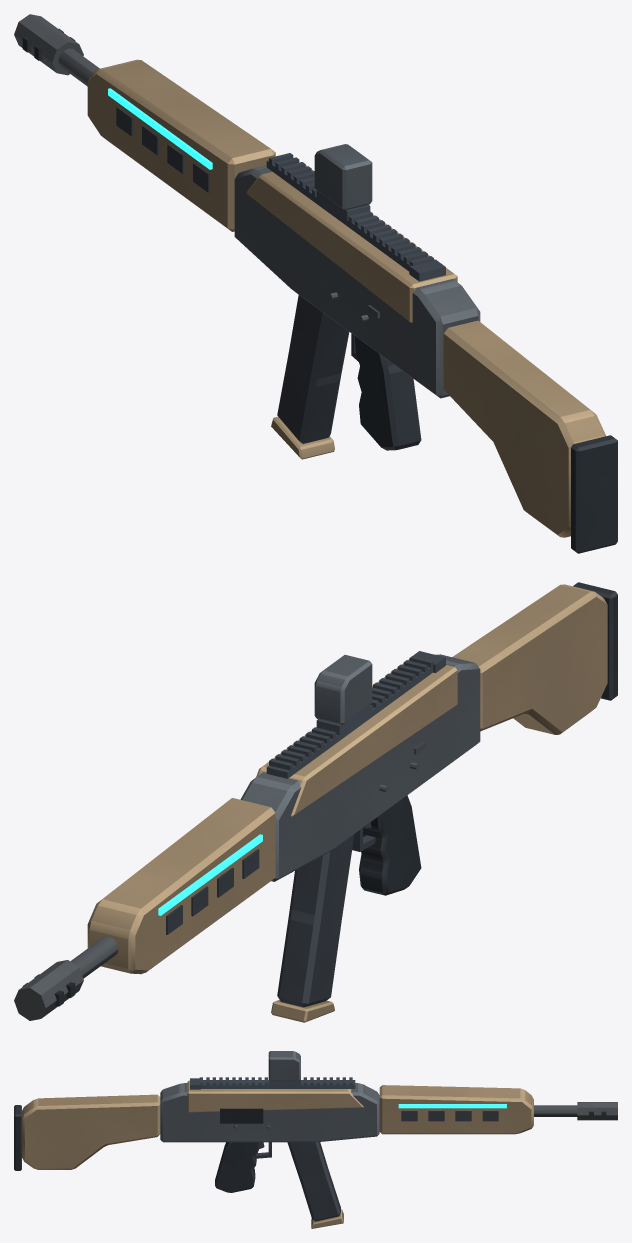
The picture shows the model from 3 angles, top to bottom: view 1: azimuth 30°, elevation 25°; view 2: azimuth 150°, elevation 25°; view 3: azimuth 270°, elevation 25°; orthographic projection. The views are drawn at different scales.
Parts seen in each view (by area): view 1: interceptor-rifle_gun, interceptor-rifle_gunGrip, interceptor-rifle_steel, interceptor-rifle_glow; view 2: interceptor-rifle_gun, interceptor-rifle_gunGrip, interceptor-rifle_steel, interceptor-rifle_glow; view 3: interceptor-rifle_gun, interceptor-rifle_gunGrip, interceptor-rifle_steel, interceptor-rifle_glow.
Part boxes in pixels (<box>): interceptor-rifle_gun: <box>22,28,605,537</box>; interceptor-rifle_gunGrip: <box>277,295,617,553</box>; interceptor-rifle_steel: <box>14,14,379,322</box>; interceptor-rifle_glow: <box>108,88,212,169</box>; interceptor-rifle_gun: <box>22,584,607,1022</box>; interceptor-rifle_gunGrip: <box>277,582,617,1007</box>; interceptor-rifle_steel: <box>14,741,426,1020</box>; interceptor-rifle_glow: <box>158,834,262,915</box>; interceptor-rifle_gun: <box>22,1051,606,1228</box>; interceptor-rifle_gunGrip: <box>14,1105,340,1221</box>; interceptor-rifle_steel: <box>234,1102,617,1129</box>; interceptor-rifle_glow: <box>398,1104,506,1108</box>.
Bounding box in the file's own units: 0.064 × 0.3476 × 1.12.
Materials: 5 (3 with a texture image).
